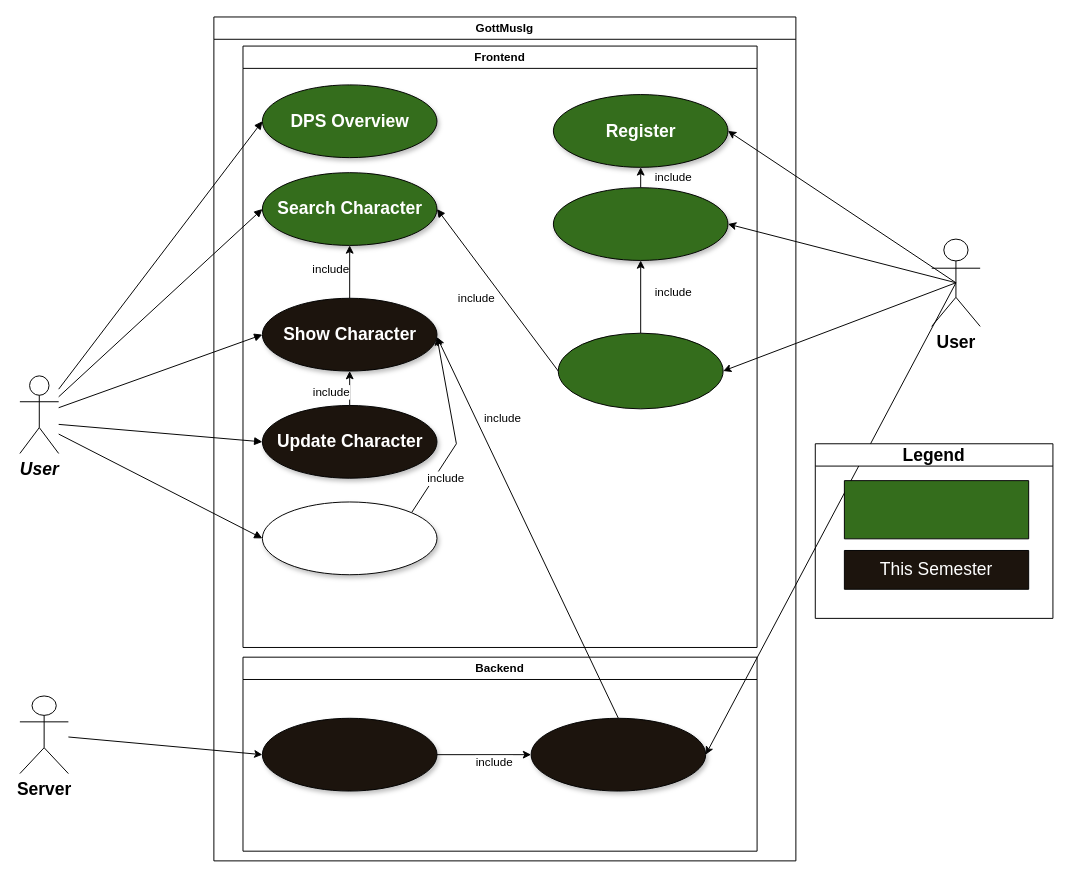
Some shapes in this 1070 by 878 pixel diagram are drawn without their labels. The shapes that lost their labels are listed below. From the top down, each one's centre as x and y in pixels, then its label:
At point 641,225: "Login".
At point 640,370: "Add WoW Character to Account".
At point 936,509: "Implemented Last Semester".
At point 350,539: "Recommended Items".
At point 350,755: "Update Database".
At point 618,755: "Simulate DPS of a WoW Character".
